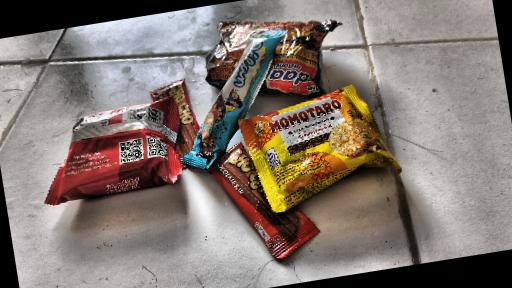momotaro: (21, 100, 205, 229), (243, 85, 393, 242)
